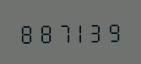eight: (17, 20, 33, 44), (34, 20, 50, 44)
nine: (103, 19, 119, 43)
one: (69, 20, 85, 43)
seven: (52, 20, 68, 44)
three: (86, 19, 102, 43)
